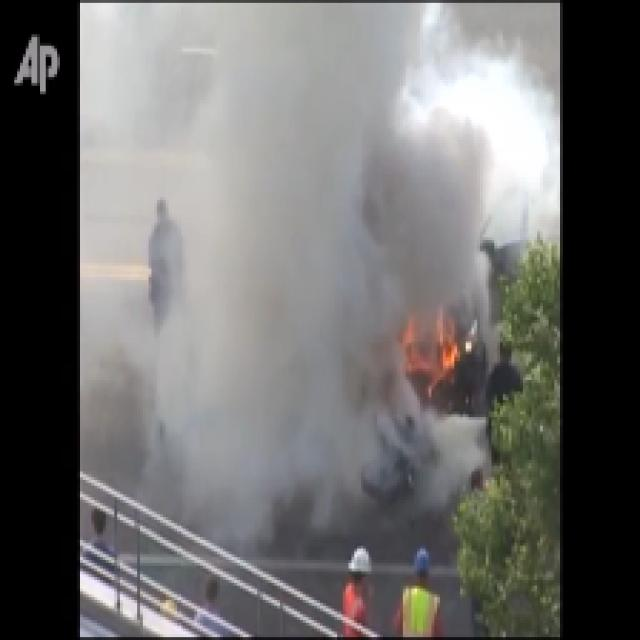smoke: (153, 6, 406, 500), (409, 0, 557, 277)
